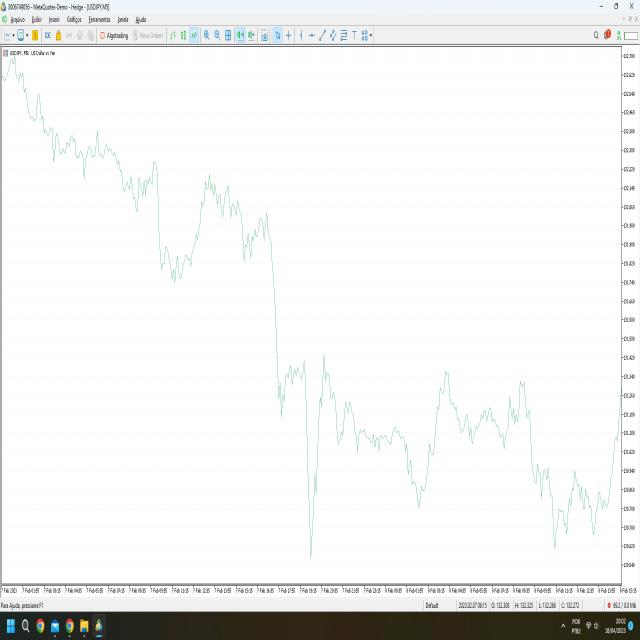bandeira_baixa: (262, 186, 308, 412)
fundo_duplo: (544, 437, 578, 570)
